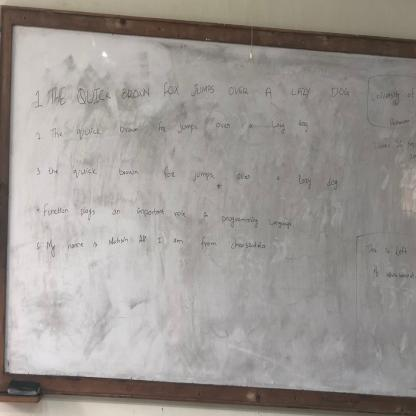Handwritten text: (43, 159, 341, 191), (45, 79, 352, 110), (40, 199, 294, 232), (41, 231, 273, 260), (44, 115, 313, 140), (367, 259, 415, 285), (362, 236, 410, 259)
